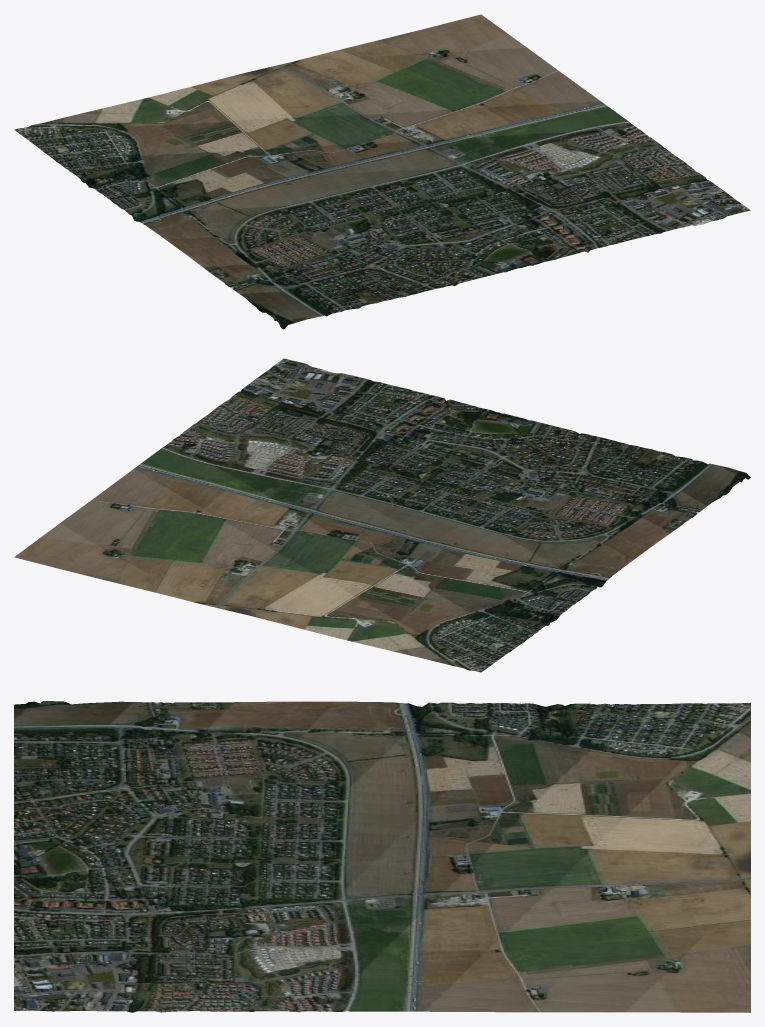
File: map_10_254_428.dae
3 views of the same model, one above another, from view 1: azimuth 30°, elevation 25°; view 2: azimuth 150°, elevation 25°; view 3: azimuth 270°, elevation 25° (orthographic). The views are drawn at different scales.
Visible parts, largest first — view 1: Ter0; view 2: Ter0; view 3: Ter0.
Part boxes in pixels (x1,y1,x2,y2): Ter0: (14,14,750,329); Ter0: (14,358,750,672); Ter0: (14,701,750,1012).
Size of the model in its own units: 2044 by 2044 by 33.24.
3 materials, 3 textured.
